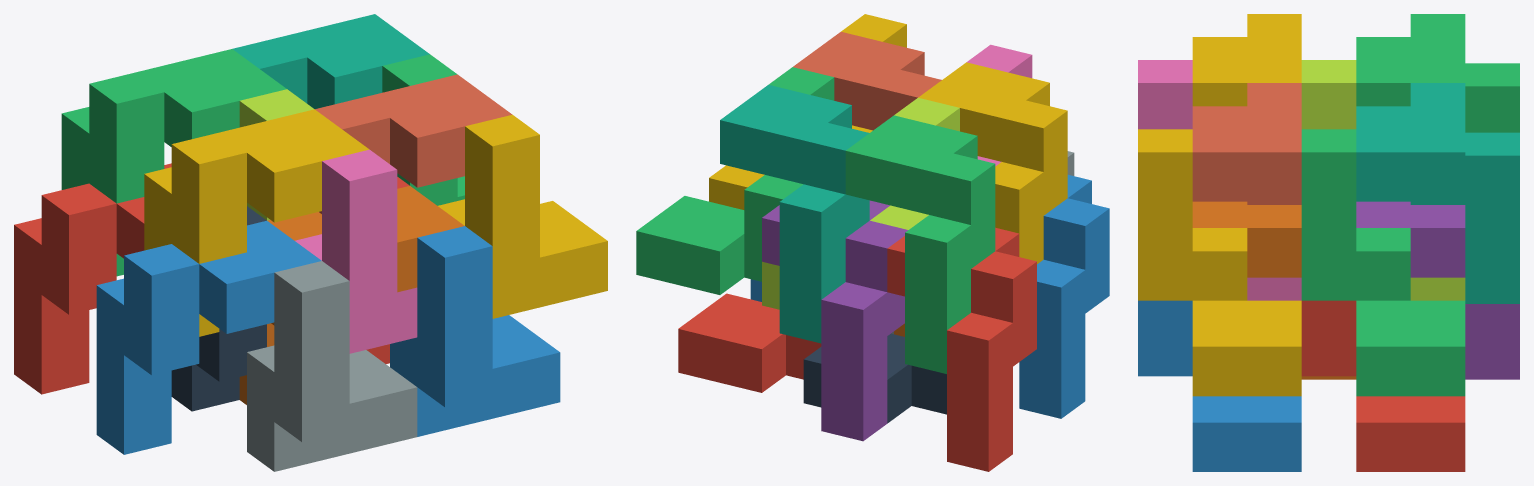
Rendered from tiling.obj.
3 views of the same model, side by side, from view 1: azimuth 30°, elevation 25°; view 2: azimuth 150°, elevation 25°; view 3: azimuth 270°, elevation 25° (orthographic). The views are drawn at different scales.
Parts seen in each view (by area): view 1: copy_1_domain_2, copy_2_domain_2, copy_2_domain_6, copy_1_domain_4, copy_1_domain_1, copy_1_domain_3, copy_2_domain_8, copy_2_domain_4, copy_1_domain_8, copy_1_domain_7, copy_2_domain_1, copy_1_domain_6 (+2 smaller); view 2: copy_1_domain_3, copy_1_domain_7, copy_1_domain_1, copy_1_domain_4, copy_1_domain_5, copy_1_domain_2, copy_2_domain_7, copy_2_domain_5, copy_1_domain_8, copy_2_domain_1, copy_2_domain_3, copy_2_domain_8 (+1 smaller); view 3: copy_2_domain_7, copy_2_domain_8, copy_1_domain_7, copy_2_domain_5, copy_2_domain_6, copy_1_domain_8, copy_1_domain_3, copy_1_domain_5, copy_1_domain_4, copy_1_domain_6, copy_2_domain_3, copy_2_domain_4.
Part boxes in pixels (box(x1,y1,x2,y2)): copy_1_domain_2: box(96, 220, 321, 454); copy_2_domain_2: box(247, 261, 417, 471); copy_2_domain_6: box(390, 226, 560, 436); copy_1_domain_4: box(144, 109, 369, 336); copy_1_domain_1: box(14, 163, 171, 394); copy_1_domain_3: box(61, 49, 286, 276); copy_2_domain_8: box(438, 114, 607, 318); copy_2_domain_4: box(295, 149, 417, 353); copy_1_domain_8: box(315, 74, 511, 213); copy_1_domain_7: box(232, 14, 429, 108); copy_2_domain_1: box(171, 206, 266, 411); copy_1_domain_6: box(239, 186, 464, 404); copy_1_domain_3: box(845, 115, 995, 373); copy_1_domain_7: box(720, 85, 869, 343); copy_1_domain_1: box(887, 227, 1036, 471); copy_1_domain_4: box(918, 62, 1067, 263); copy_1_domain_5: box(762, 200, 907, 441); copy_1_domain_2: box(1019, 174, 1109, 418); copy_2_domain_7: box(636, 67, 834, 294); copy_2_domain_5: box(678, 293, 821, 392); copy_1_domain_8: box(793, 32, 941, 130); copy_2_domain_1: box(803, 333, 946, 423); copy_2_domain_3: box(762, 97, 959, 309); copy_2_domain_8: box(709, 14, 906, 209); copy_2_domain_7: box(1301, 129, 1465, 396); copy_2_domain_8: box(1138, 129, 1301, 396); copy_1_domain_7: box(1356, 83, 1519, 303); copy_2_domain_5: box(1301, 300, 1465, 471); copy_2_domain_6: box(1138, 300, 1301, 471); copy_1_domain_8: box(1192, 83, 1301, 204); copy_1_domain_3: box(1356, 14, 1519, 132); copy_1_domain_5: box(1356, 201, 1519, 379); copy_1_domain_4: box(1192, 14, 1301, 106); copy_1_domain_6: box(1192, 201, 1356, 379); copy_2_domain_3: box(1301, 60, 1465, 300); copy_2_domain_4: box(1138, 60, 1301, 300).
Bounding box in the file's own units: 9 × 6 × 7.
